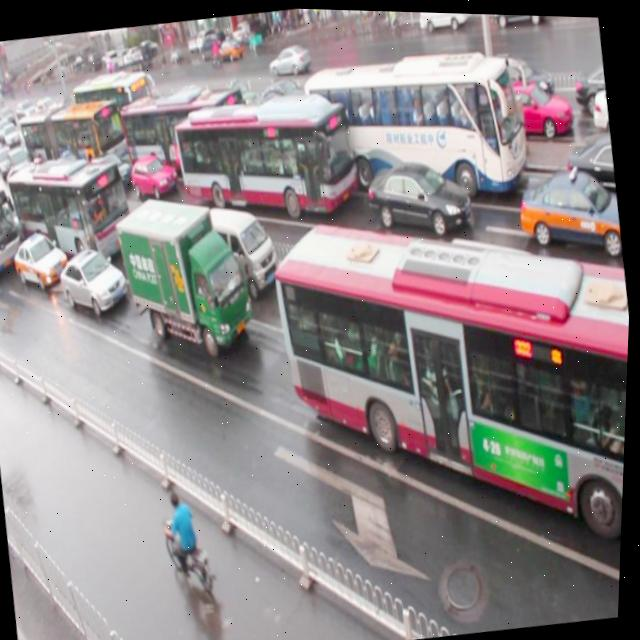bus: (108, 181, 263, 367)
car: (284, 225, 408, 339), (513, 157, 627, 262), (363, 148, 477, 243), (116, 205, 197, 284), (56, 236, 127, 313), (561, 127, 622, 212), (10, 223, 73, 288), (129, 149, 180, 201), (84, 148, 137, 198)
truck: (427, 218, 583, 390), (193, 196, 286, 301)
van: (259, 179, 635, 586), (299, 40, 536, 217), (170, 79, 365, 232), (1, 146, 142, 279), (116, 79, 255, 190), (18, 95, 131, 173), (0, 173, 28, 275)
